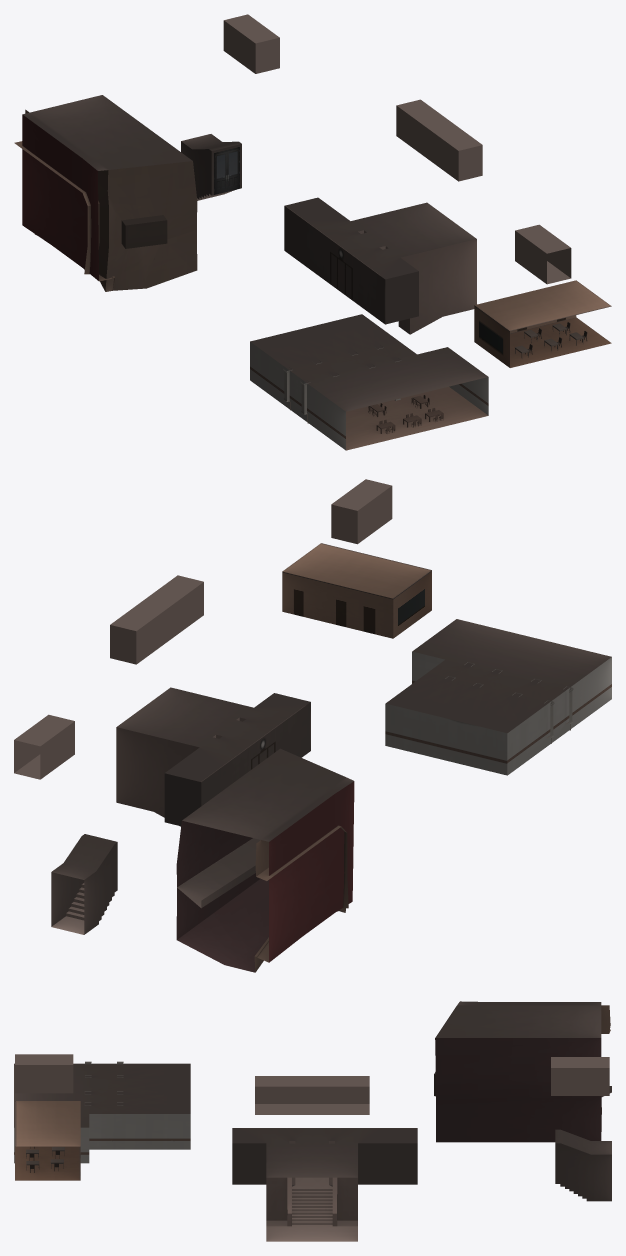
Rendered from harveyHallRooms1920s.fbx.
The picture shows the model from 3 angles, top to bottom: view 1: azimuth 30°, elevation 25°; view 2: azimuth 150°, elevation 25°; view 3: azimuth 270°, elevation 25°; orthographic projection. The views are drawn at different scales.
Parts seen in each view (by area): view 1: pCube5, pCube2, polySurface73, pCube4, pCube378, polySurface74, pCube375, pCube379; view 2: pCube5, pCube2, polySurface73, pCube4, polySurface74, pCube378, pCube379, pCube375; view 3: pCube5, polySurface73, pCube2, pCube4, pCube378, polySurface74, pCube379, pCube375.
Boxes of the visible parts, box(x1,y1,x2,y2) form: pCube5: box(14, 95, 197, 291); pCube2: box(250, 314, 488, 450); polySurface73: box(284, 197, 476, 334); pCube4: box(474, 280, 611, 367); pCube378: box(396, 99, 482, 181); polySurface74: box(181, 134, 241, 200); pCube375: box(223, 14, 279, 73); pCube379: box(515, 224, 571, 284); pCube5: box(176, 748, 354, 972); pCube2: box(385, 619, 611, 775); polySurface73: box(116, 687, 310, 826); pCube4: box(282, 543, 431, 638); polySurface74: box(51, 834, 117, 934); pCube378: box(110, 575, 203, 664); pCube379: box(331, 479, 392, 544); pCube375: box(14, 714, 74, 779); pCube5: box(434, 1001, 611, 1142); polySurface73: box(232, 1128, 417, 1241); pCube2: box(14, 1063, 190, 1163); pCube4: box(15, 1101, 80, 1180); pCube378: box(255, 1076, 369, 1114); polySurface74: box(555, 1129, 611, 1201); pCube379: box(15, 1054, 73, 1093); pCube375: box(551, 1057, 609, 1095).
Bounding box in the file's own units: 39.63 × 24.66 × 80.21.
